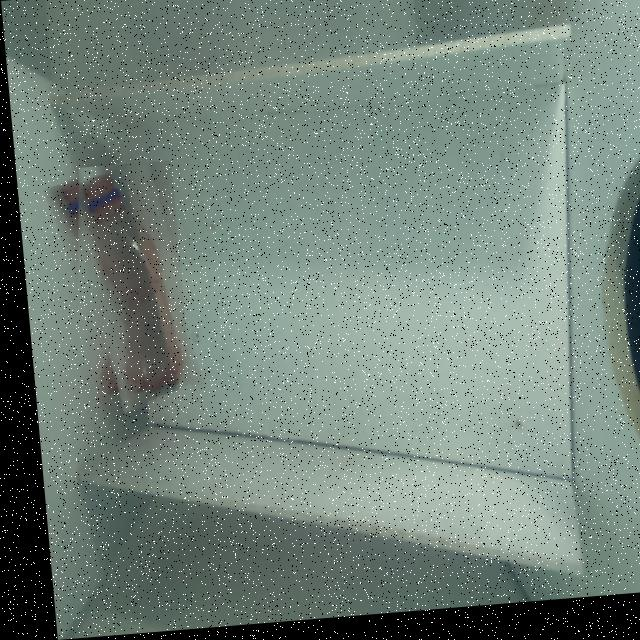plasticbottle: (51, 162, 184, 414)
